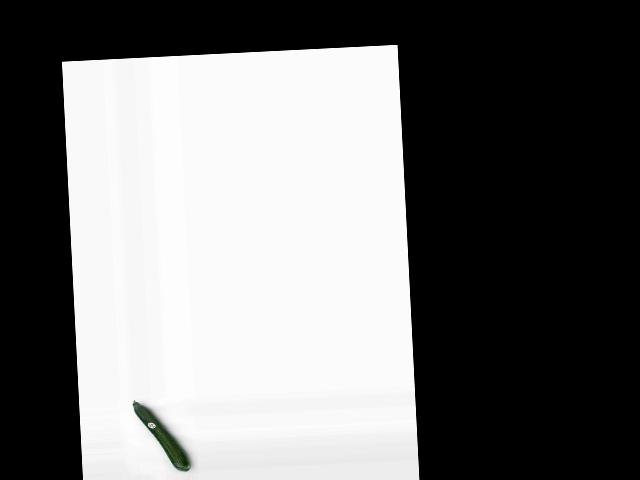cucumber: (132, 397, 190, 473)
